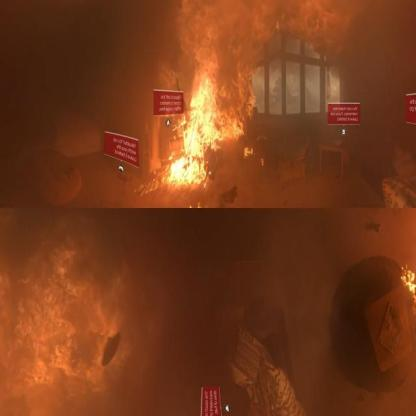Fire: (156, 60, 259, 194)
